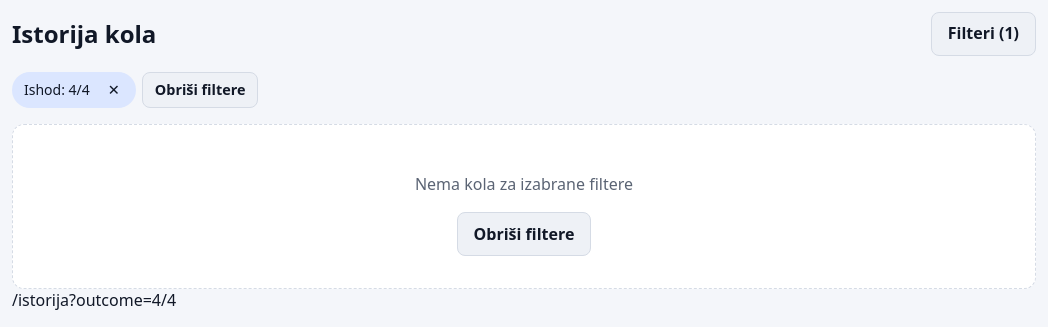
HistoryPage filters ↔ URL › empty state offers "Obriši filtere" which clears the URL
This screenshot has width=1048, height=327.
Expected: the text "Nema kola za izabrane filtere" is shown, [415,173,633,195]
Click the button "Obriši filtere" below "Nema kola za izabrane filtere".
click(524, 234)  # box [457,212,591,256]
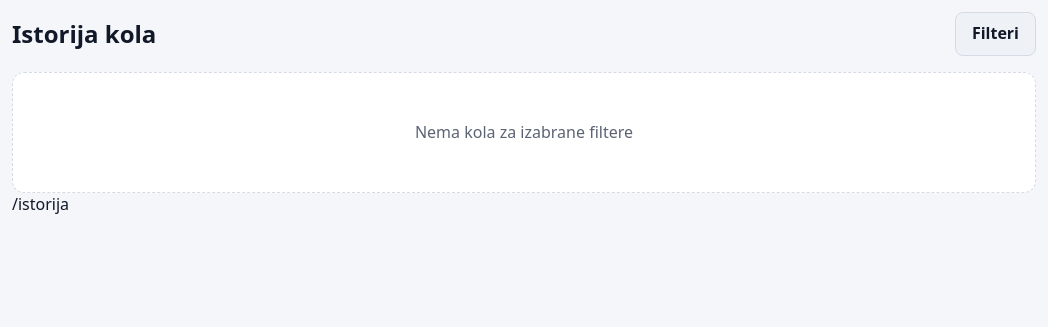
Now the text with test id "location" reads "/istorija", box [12,193,69,215]
